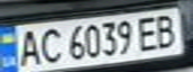0: (81, 20, 103, 60)
3: (100, 19, 121, 57)
6: (63, 22, 87, 61)
9: (115, 17, 139, 55)
A: (12, 27, 45, 68)
B: (151, 11, 181, 50)
C: (36, 25, 66, 65)
E: (133, 14, 163, 52)
